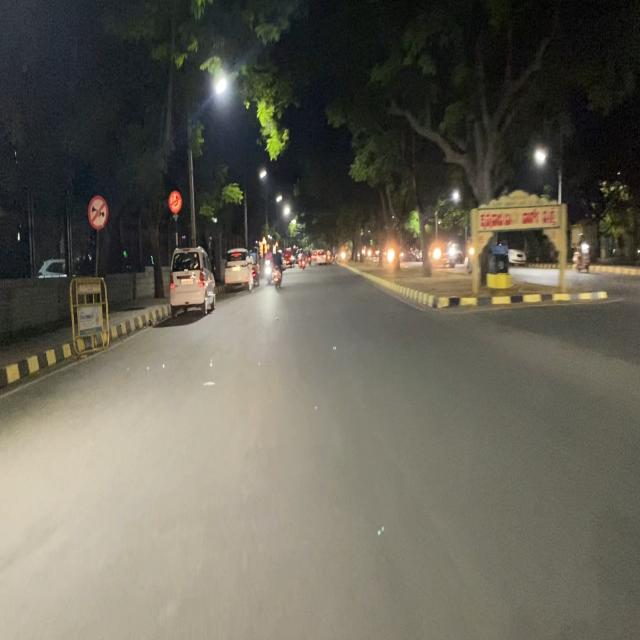bien_cam: (88, 193, 110, 230), (168, 190, 182, 213)
